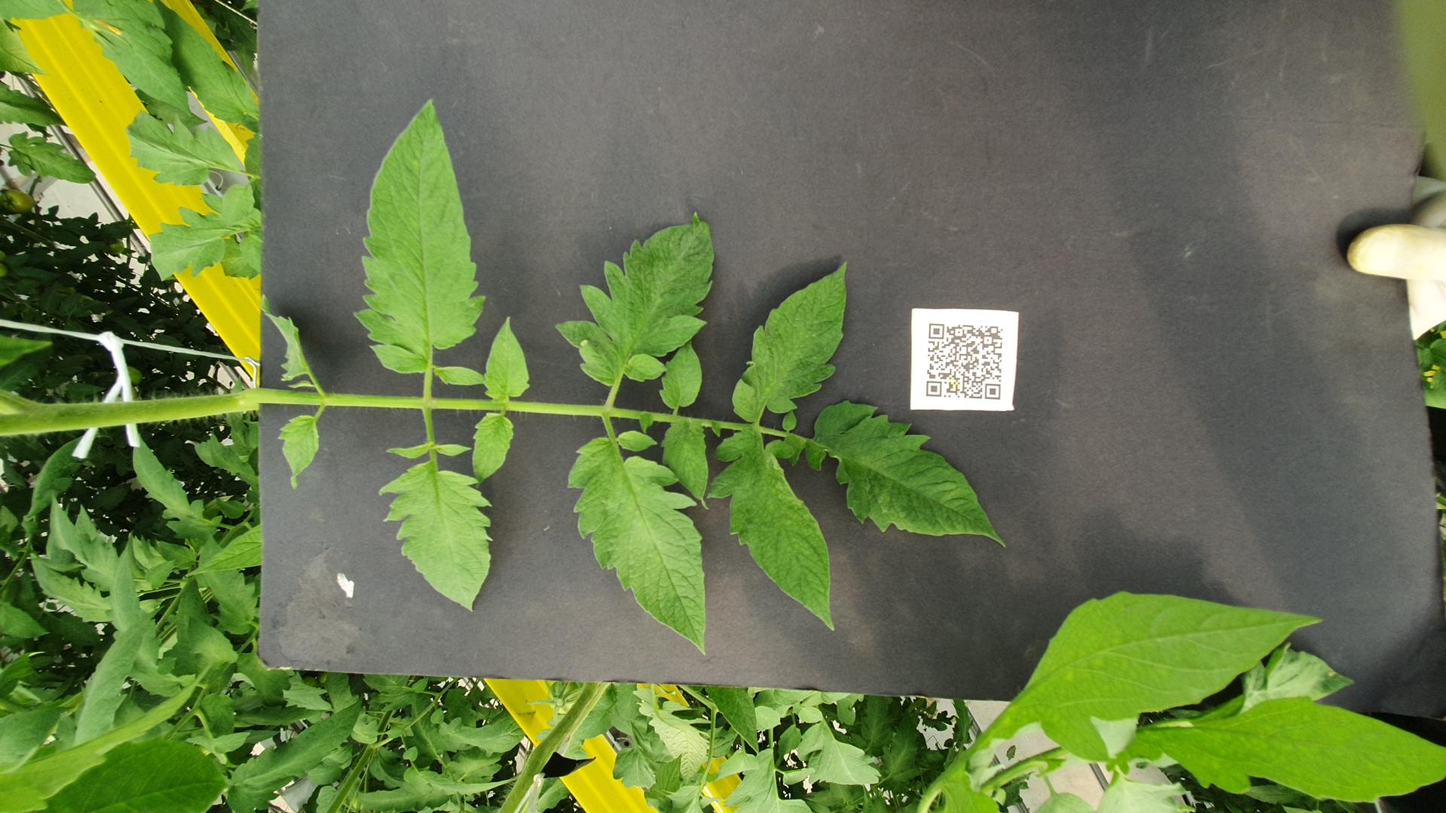Healthy: (89, 550, 397, 745), (758, 198, 1271, 273), (18, 637, 207, 813), (280, 319, 678, 397), (469, 452, 732, 567), (761, 312, 1071, 402), (322, 398, 681, 470), (360, 211, 660, 278), (696, 411, 979, 477), (0, 127, 212, 204), (114, 40, 369, 92), (1115, 70, 1249, 135), (51, 355, 226, 398), (1242, 57, 1378, 106), (337, 16, 461, 62), (949, 83, 1079, 126), (48, 449, 161, 495), (521, 75, 649, 114), (1119, 4, 1214, 54), (734, 270, 886, 299), (538, 371, 696, 397), (309, 58, 502, 79), (103, 247, 185, 295), (105, 395, 227, 426), (31, 227, 84, 291), (575, 155, 710, 180), (577, 265, 713, 289), (720, 370, 842, 395), (263, 105, 351, 134), (1036, 123, 1121, 144), (434, 87, 487, 110), (398, 82, 453, 98)
